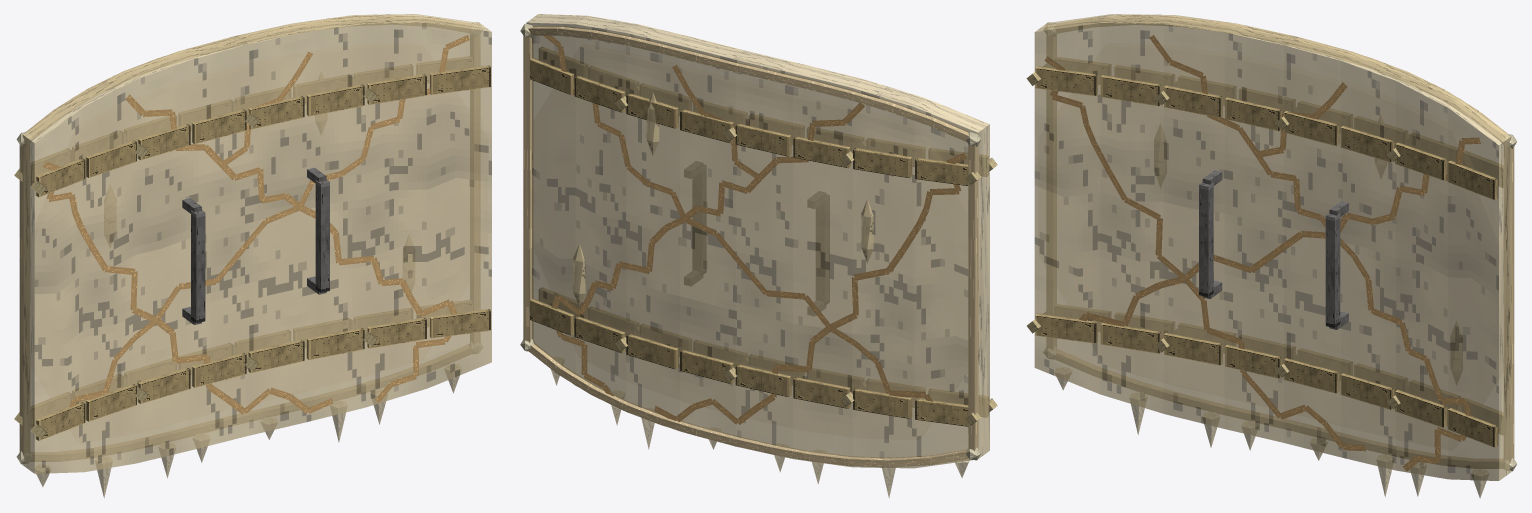
Rendered from prop_bulwark.gltf.
3 renders of one model, left to right at view 1: azimuth 30°, elevation 25°; view 2: azimuth 150°, elevation 25°; view 3: azimuth 330°, elevation 25°, orthographic. The views are drawn at different scales.
Parts seen in each view (by area): view 1: slab, frame, rim, crack_2, crack_1, crack_0; view 2: slab, frame, rim, crack_2, crack_1, crack_0; view 3: slab, frame, rim, crack_2, crack_1, crack_0.
Part boxes in pixels (bbox=[...]): slab: bbox=[22, 14, 491, 498]; frame: bbox=[14, 56, 490, 440]; rim: bbox=[16, 15, 482, 464]; crack_2: bbox=[43, 52, 451, 414]; crack_1: bbox=[69, 35, 469, 407]; crack_0: bbox=[220, 117, 399, 284]; slab: bbox=[526, 14, 989, 498]; frame: bbox=[530, 47, 997, 426]; rim: bbox=[520, 23, 981, 467]; crack_2: bbox=[556, 65, 966, 424]; crack_1: bbox=[543, 35, 932, 411]; crack_0: bbox=[597, 121, 761, 288]; slab: bbox=[1034, 14, 1511, 498]; frame: bbox=[1026, 57, 1502, 447]; rim: bbox=[1043, 15, 1517, 471]; crack_2: bbox=[1044, 35, 1466, 471]; crack_1: bbox=[1079, 137, 1480, 416]; crack_0: bbox=[1255, 153, 1424, 351].
Size of the model in its own units: 2.23 by 1.95 by 0.3135.
7 materials, 6 textured.
